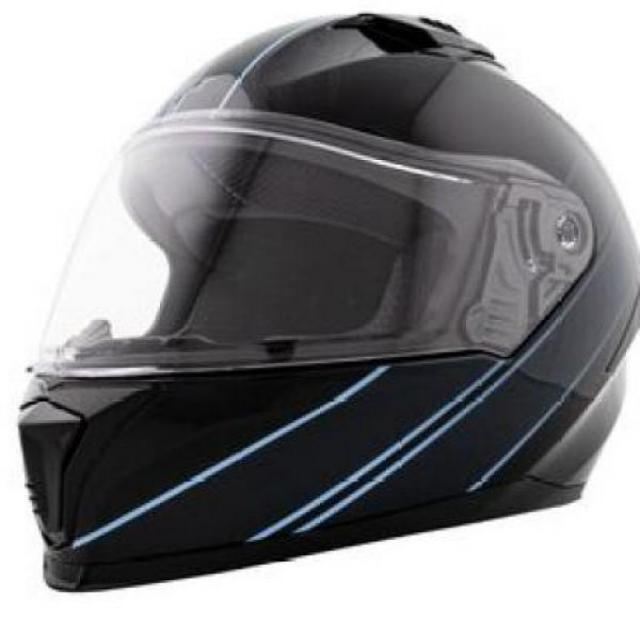Helmet: (38, 21, 630, 612)
